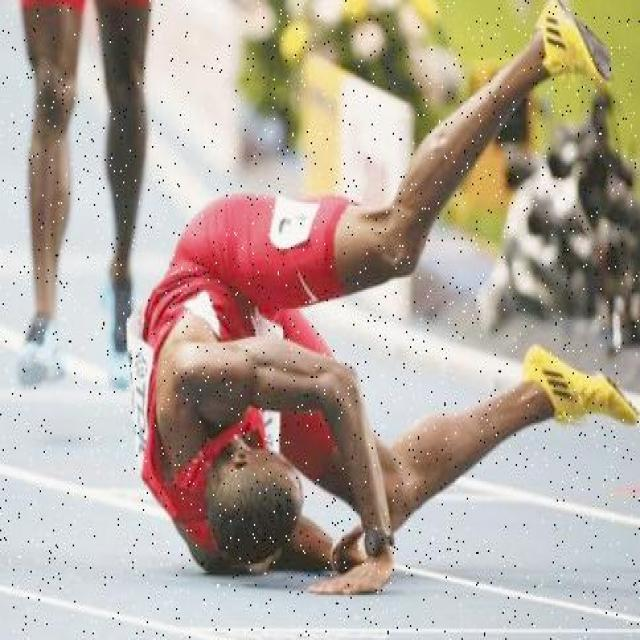fall: (135, 161, 514, 578)
